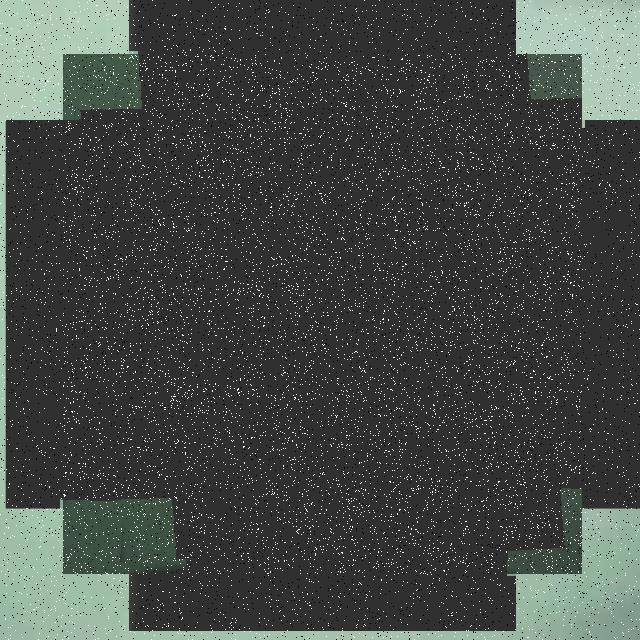dua ribu rupiah: (63, 54, 582, 574)
